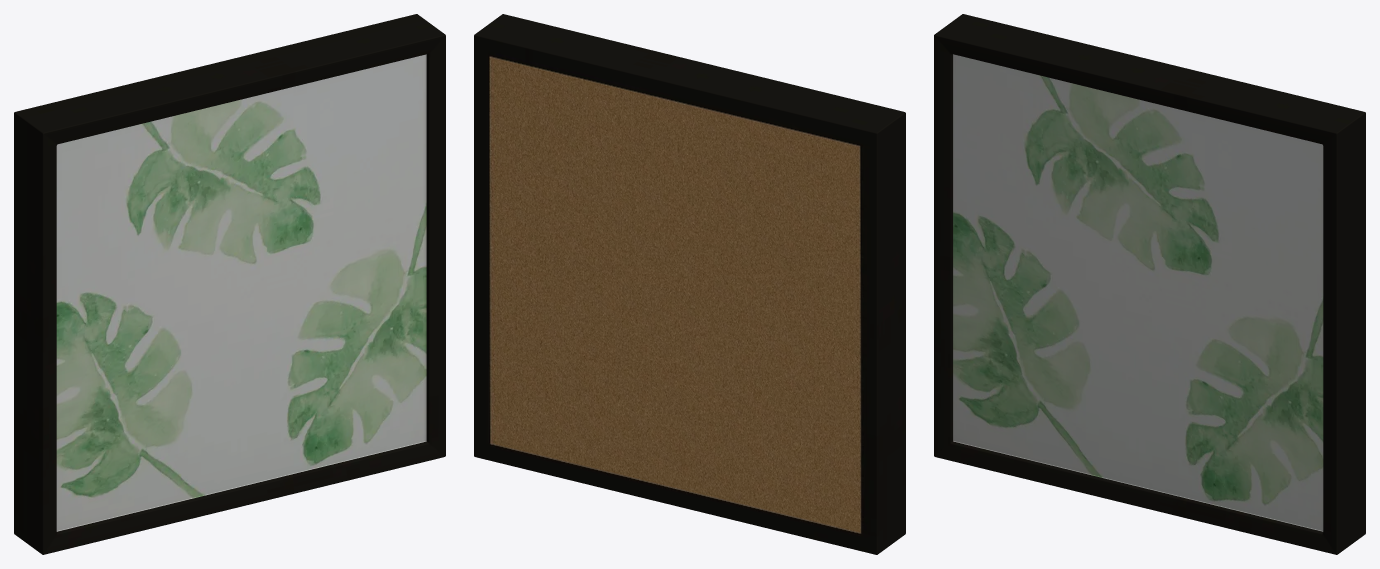
File: abo-B073P5XJFM.glb
3 views of the same model, side by side, from view 1: azimuth 30°, elevation 25°; view 2: azimuth 150°, elevation 25°; view 3: azimuth 330°, elevation 25° (orthographic).
Size of the model in its own units: 0.304 by 0.304 by 0.038.
Materials: 1 (1 with a texture image).
